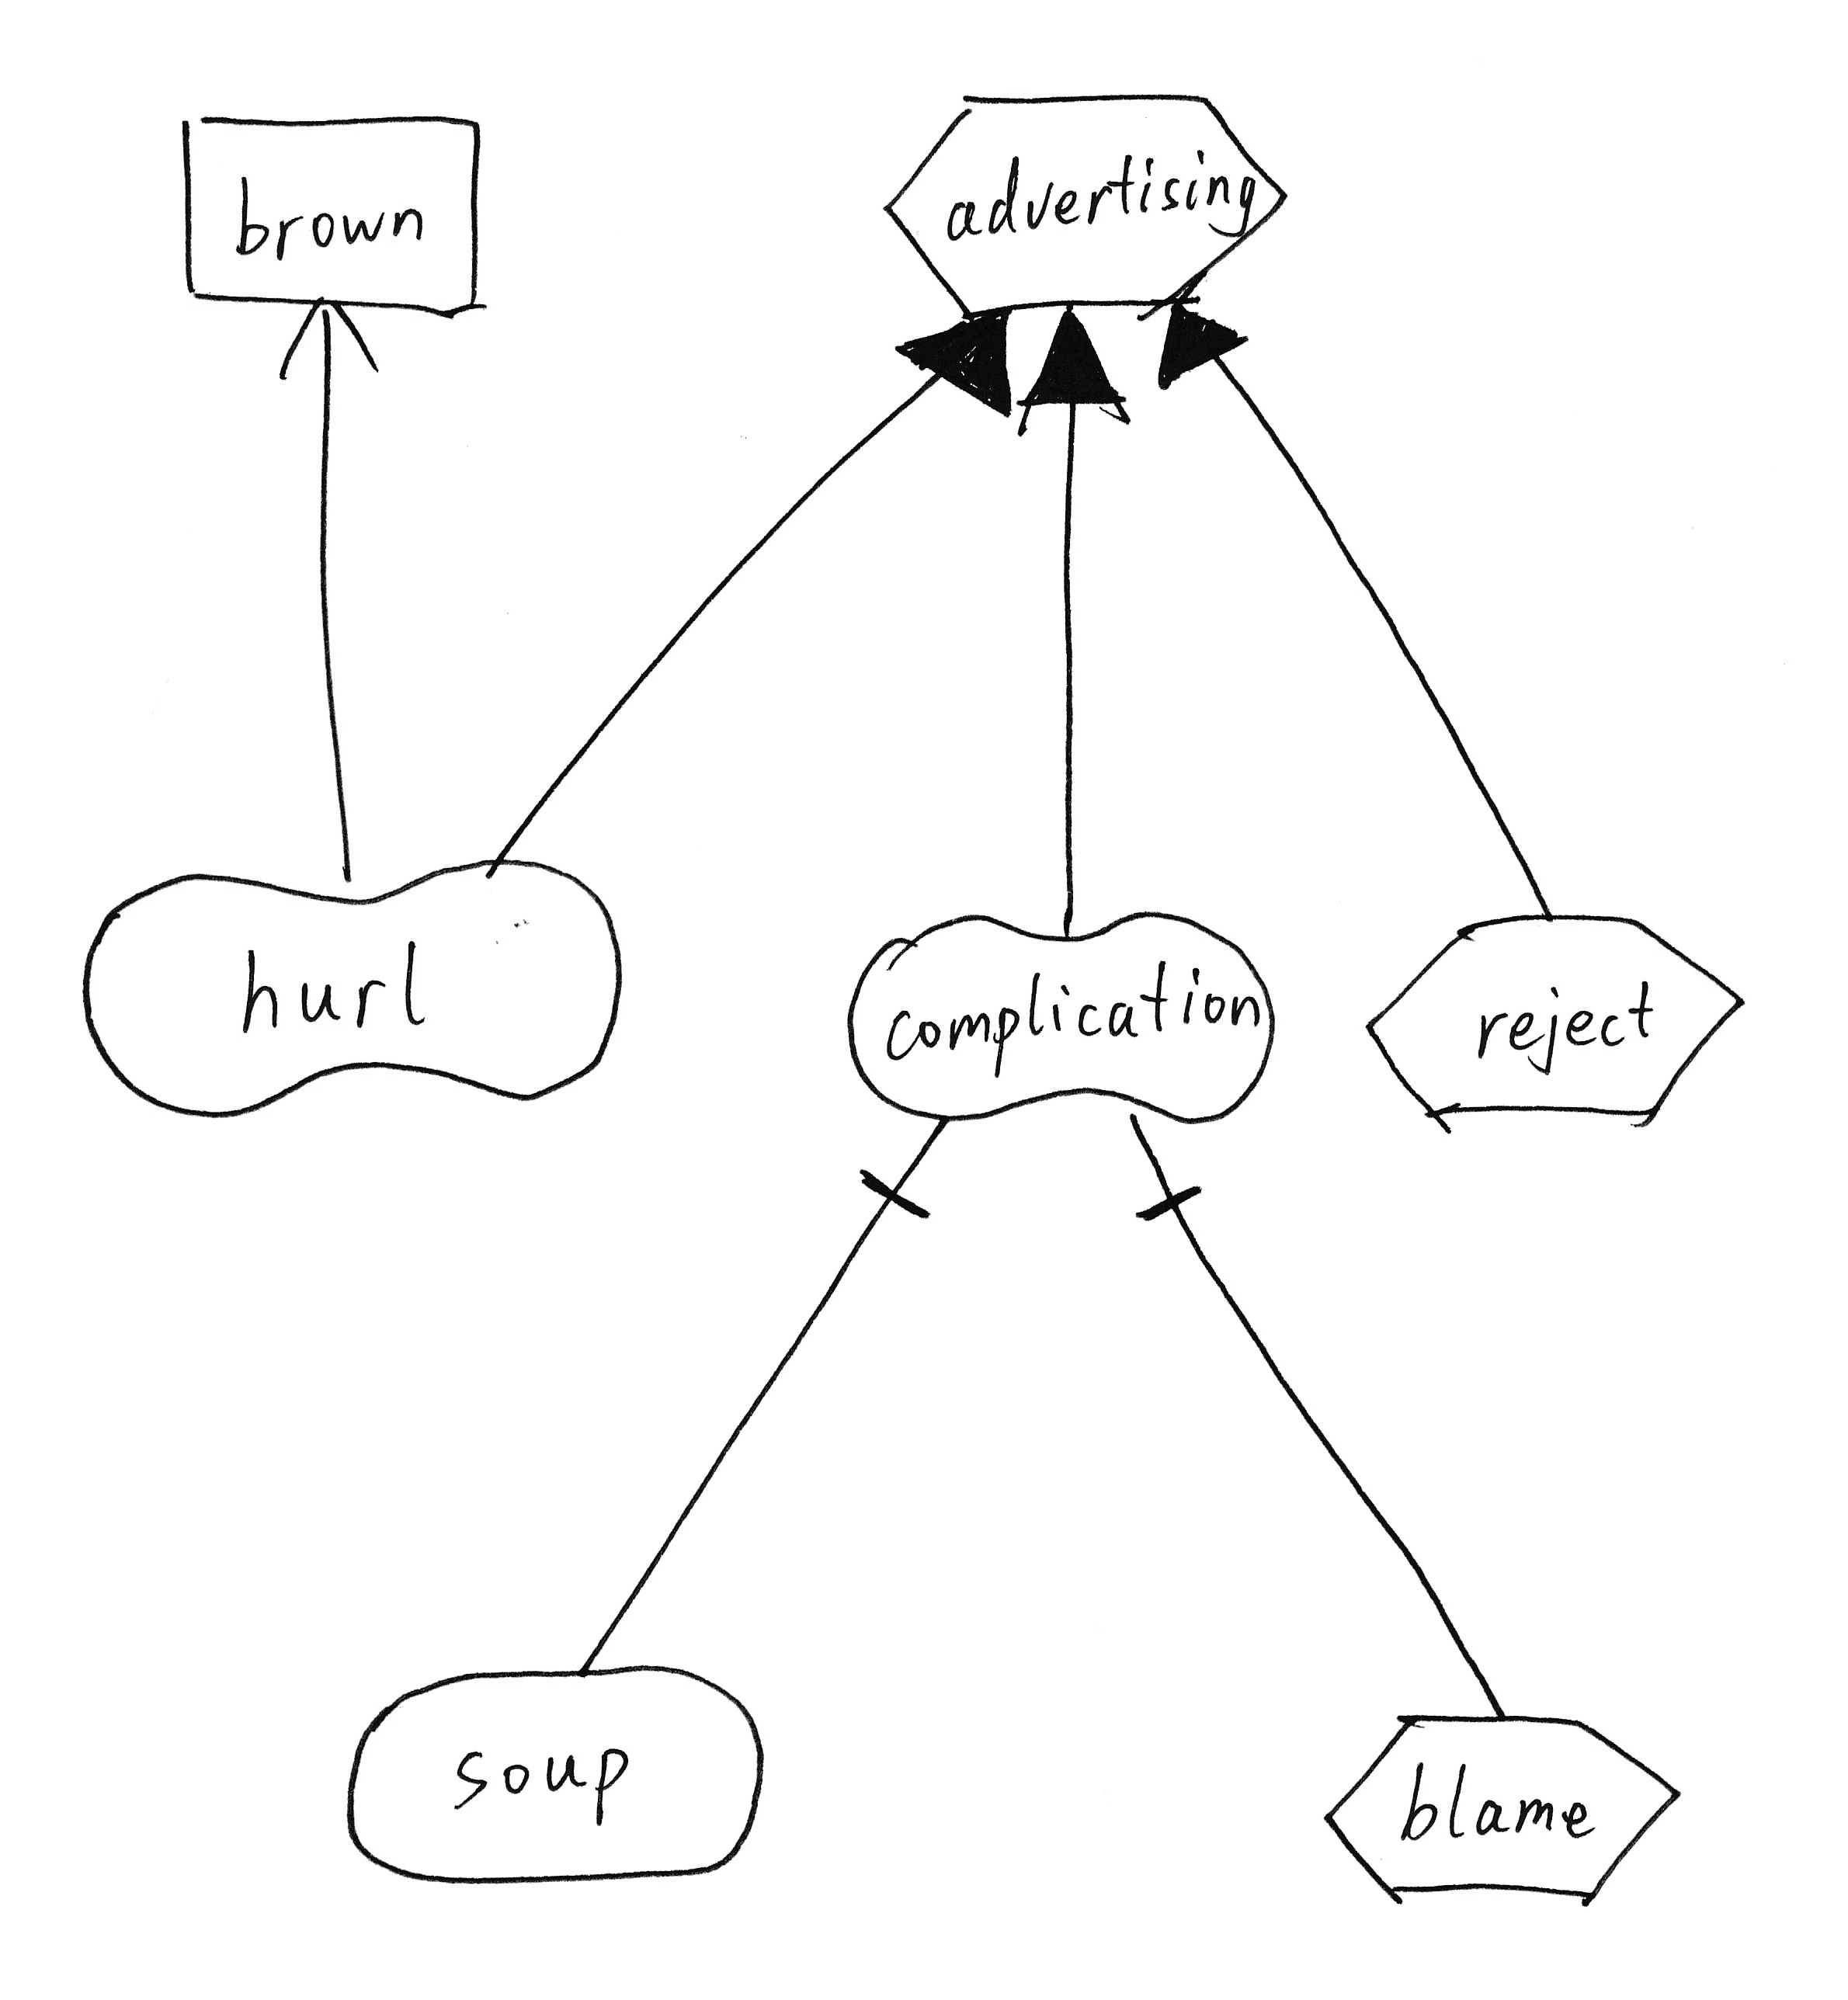and: (846, 1103, 965, 1235), (1116, 1098, 1217, 1244)
arrow: (273, 287, 397, 402)
goal: (329, 1653, 784, 1901)
or: (885, 294, 1031, 430), (1017, 287, 1139, 429), (1150, 291, 1263, 395)
quality: (63, 848, 639, 1125), (829, 899, 1291, 1139)
resource: (162, 92, 502, 333)
task: (867, 68, 1301, 338), (1357, 894, 1763, 1146), (1303, 1697, 1693, 1913)
